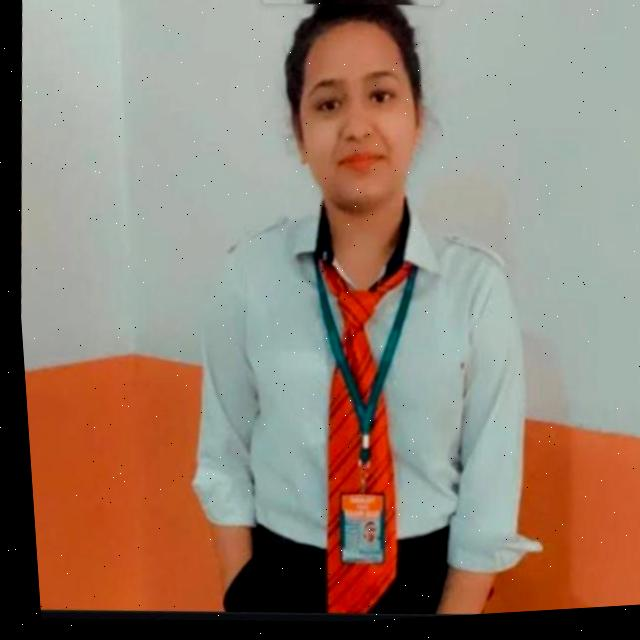id_card: (278, 243, 428, 568)
